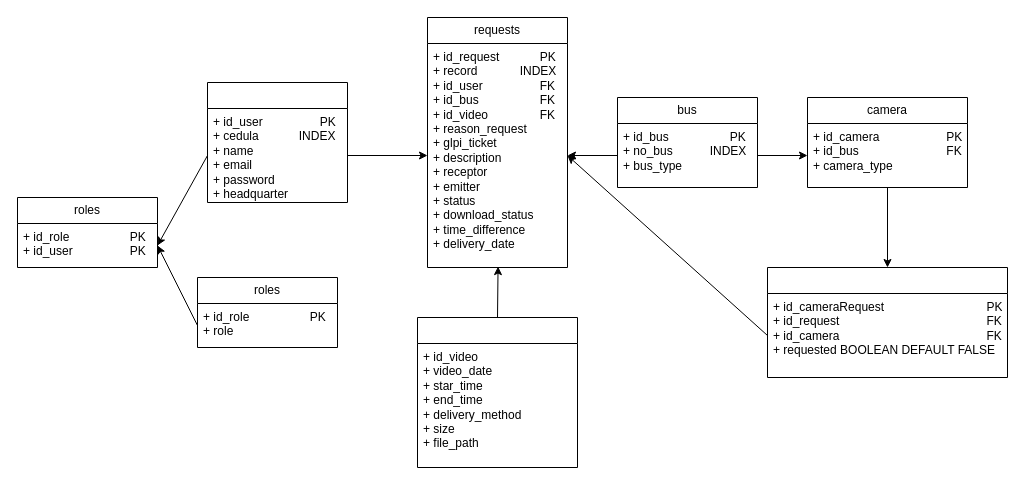
The diagram is 1025 pixels wide and 488 high, and some of its shapes have lost their labels. The box of each missing label's shape, as (x1, y1, x2, y2) in pixels:
cameraRequests: (766, 266, 1008, 378)
users: (206, 82, 348, 202)
videos: (416, 316, 578, 468)
